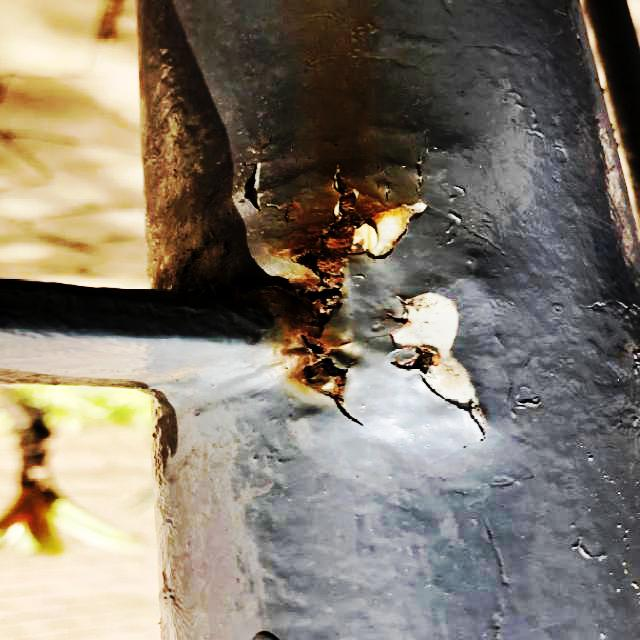Corrosion: (249, 161, 427, 322)
